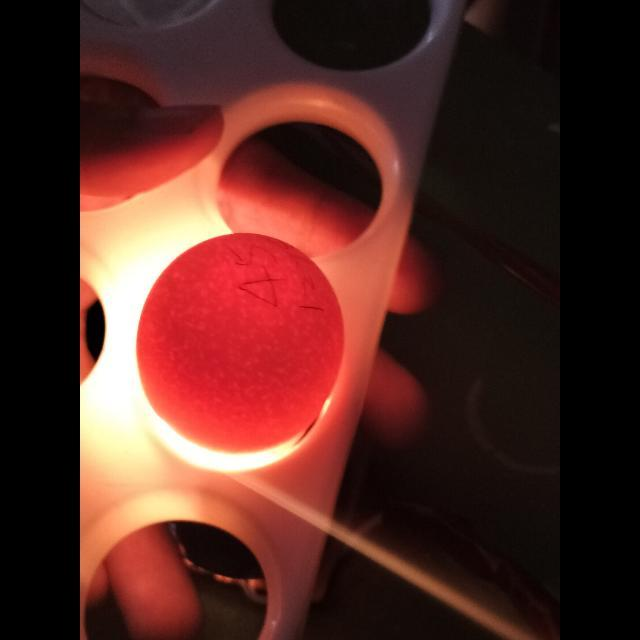Infertile: (138, 236, 346, 454)
